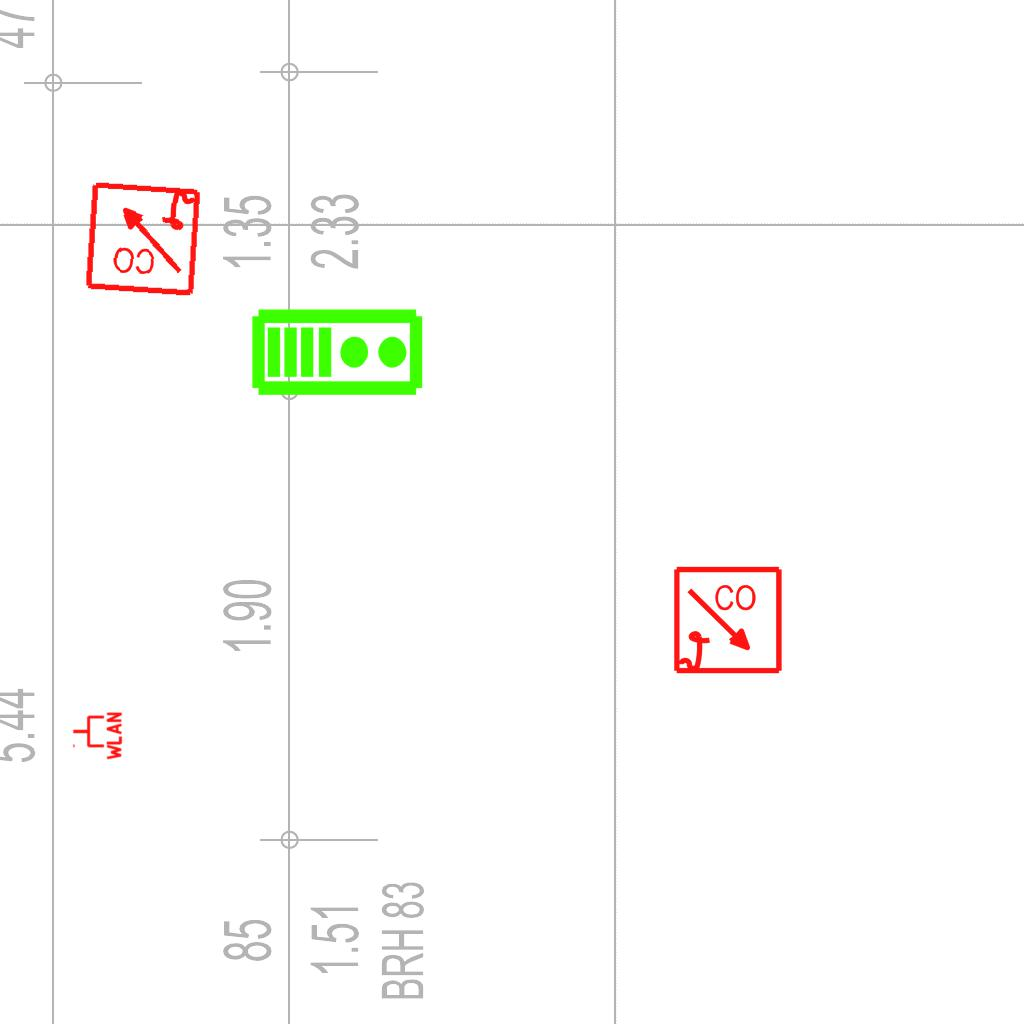Gegensprechanlage_mit_Video: (250, 303, 426, 398)
ROA_Rauchmelder_optisch_mit_Signalgeber_(Sockelsirene): (82, 177, 203, 298), (672, 565, 785, 678)
WLAN: (71, 710, 123, 762)
